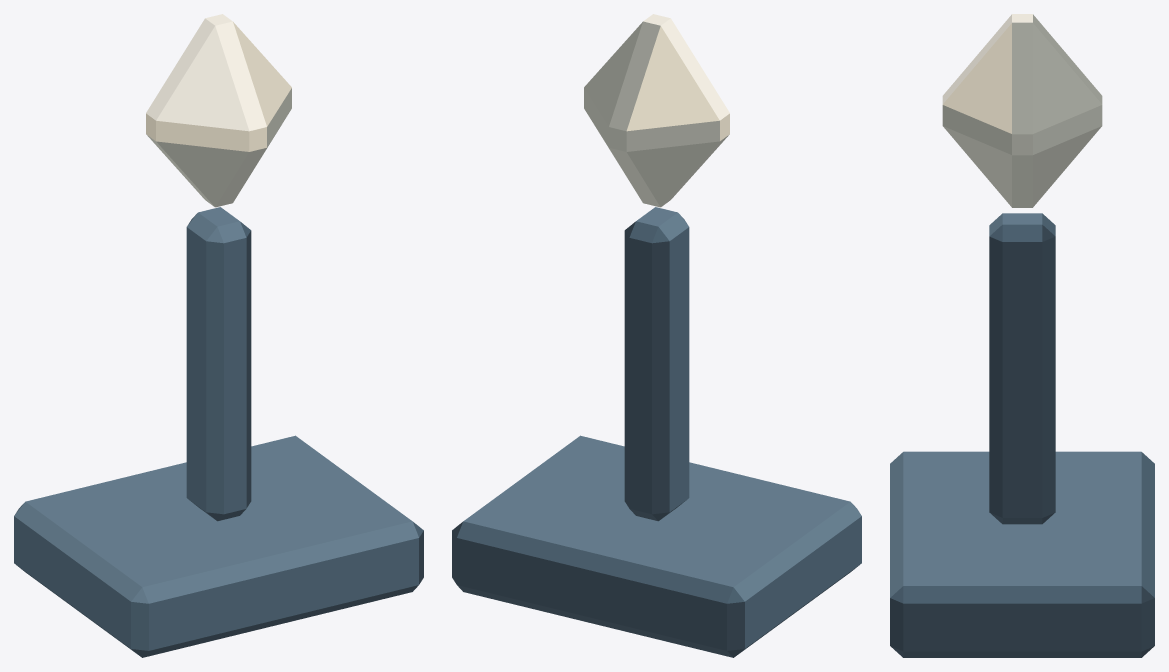
File: Checkpoint_Idle.gltf
3 renders of one model, left to right at view 1: azimuth 30°, elevation 25°; view 2: azimuth 150°, elevation 25°; view 3: azimuth 270°, elevation 25°, orthographic.
Visible parts, largest first — view 1: Checkpoint_Idle_baked; view 2: Checkpoint_Idle_baked; view 3: Checkpoint_Idle_baked.
Boxes of the visible parts, <box> form: Checkpoint_Idle_baked: <box>14,14,423,657</box>; Checkpoint_Idle_baked: <box>452,14,861,657</box>; Checkpoint_Idle_baked: <box>890,14,1154,657</box>.
Size of the model in its own units: 0.52 by 0.9542 by 0.4.
